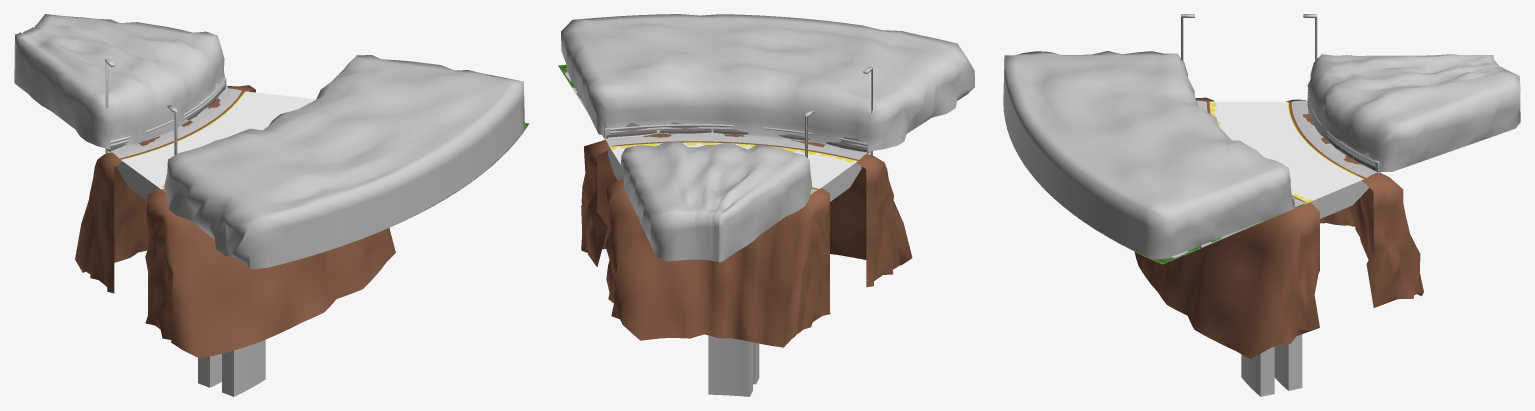
The model's file is RoadLeft.fbx.
The picture shows the model from 3 angles, left to right: view 1: azimuth 30°, elevation 25°; view 2: azimuth 150°, elevation 25°; view 3: azimuth 270°, elevation 25°; orthographic projection. The views are drawn at different scales.
Visible parts, largest first — view 1: MountainRight, CliffRight, MountainLeft, CliffLeft, Road Mask, Road, PianoLeft, RailGuardLeft; view 2: MountainRight, CliffLeft, MountainLeft, CliffRight, Road, PianoRight, Road Mask, ConcreteWallRight, RailGuardRight; view 3: MountainRight, MountainLeft, CliffRight, CliffLeft, Road Mask, Road, PianoLeft.
Part boxes in pixels (<box>): MountainRight: <box>164,55,524,269</box>; CliffRight: <box>145,188,395,358</box>; MountainLeft: <box>14,14,227,152</box>; CliffLeft: <box>75,85,255,293</box>; Road Mask: <box>121,91,315,189</box>; Road: <box>117,161,265,396</box>; PianoLeft: <box>111,88,241,158</box>; RailGuardLeft: <box>110,79,224,146</box>; MountainRight: <box>561,14,974,154</box>; CliffLeft: <box>604,178,830,347</box>; MountainLeft: <box>621,142,811,262</box>; CliffRight: <box>581,133,912,287</box>; Road: <box>608,145,861,396</box>; PianoRight: <box>572,87,866,159</box>; Road Mask: <box>610,142,857,188</box>; ConcreteWallRight: <box>603,122,869,153</box>; RailGuardRight: <box>610,124,867,148</box>; MountainRight: <box>1003,51,1292,259</box>; MountainLeft: <box>1307,54,1520,174</box>; CliffRight: <box>1134,97,1319,358</box>; CliffLeft: <box>1286,99,1423,307</box>; Road Mask: <box>1209,101,1363,202</box>; Road: <box>1241,180,1368,396</box>; PianoLeft: <box>1291,100,1377,177</box>.
Size of what is drawn, in the model's own units: 886 by 755 by 1105.
